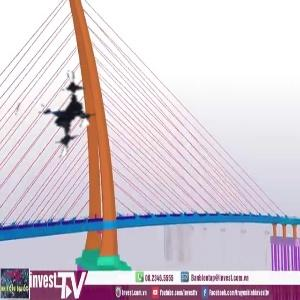drone: (9, 69, 105, 165)
